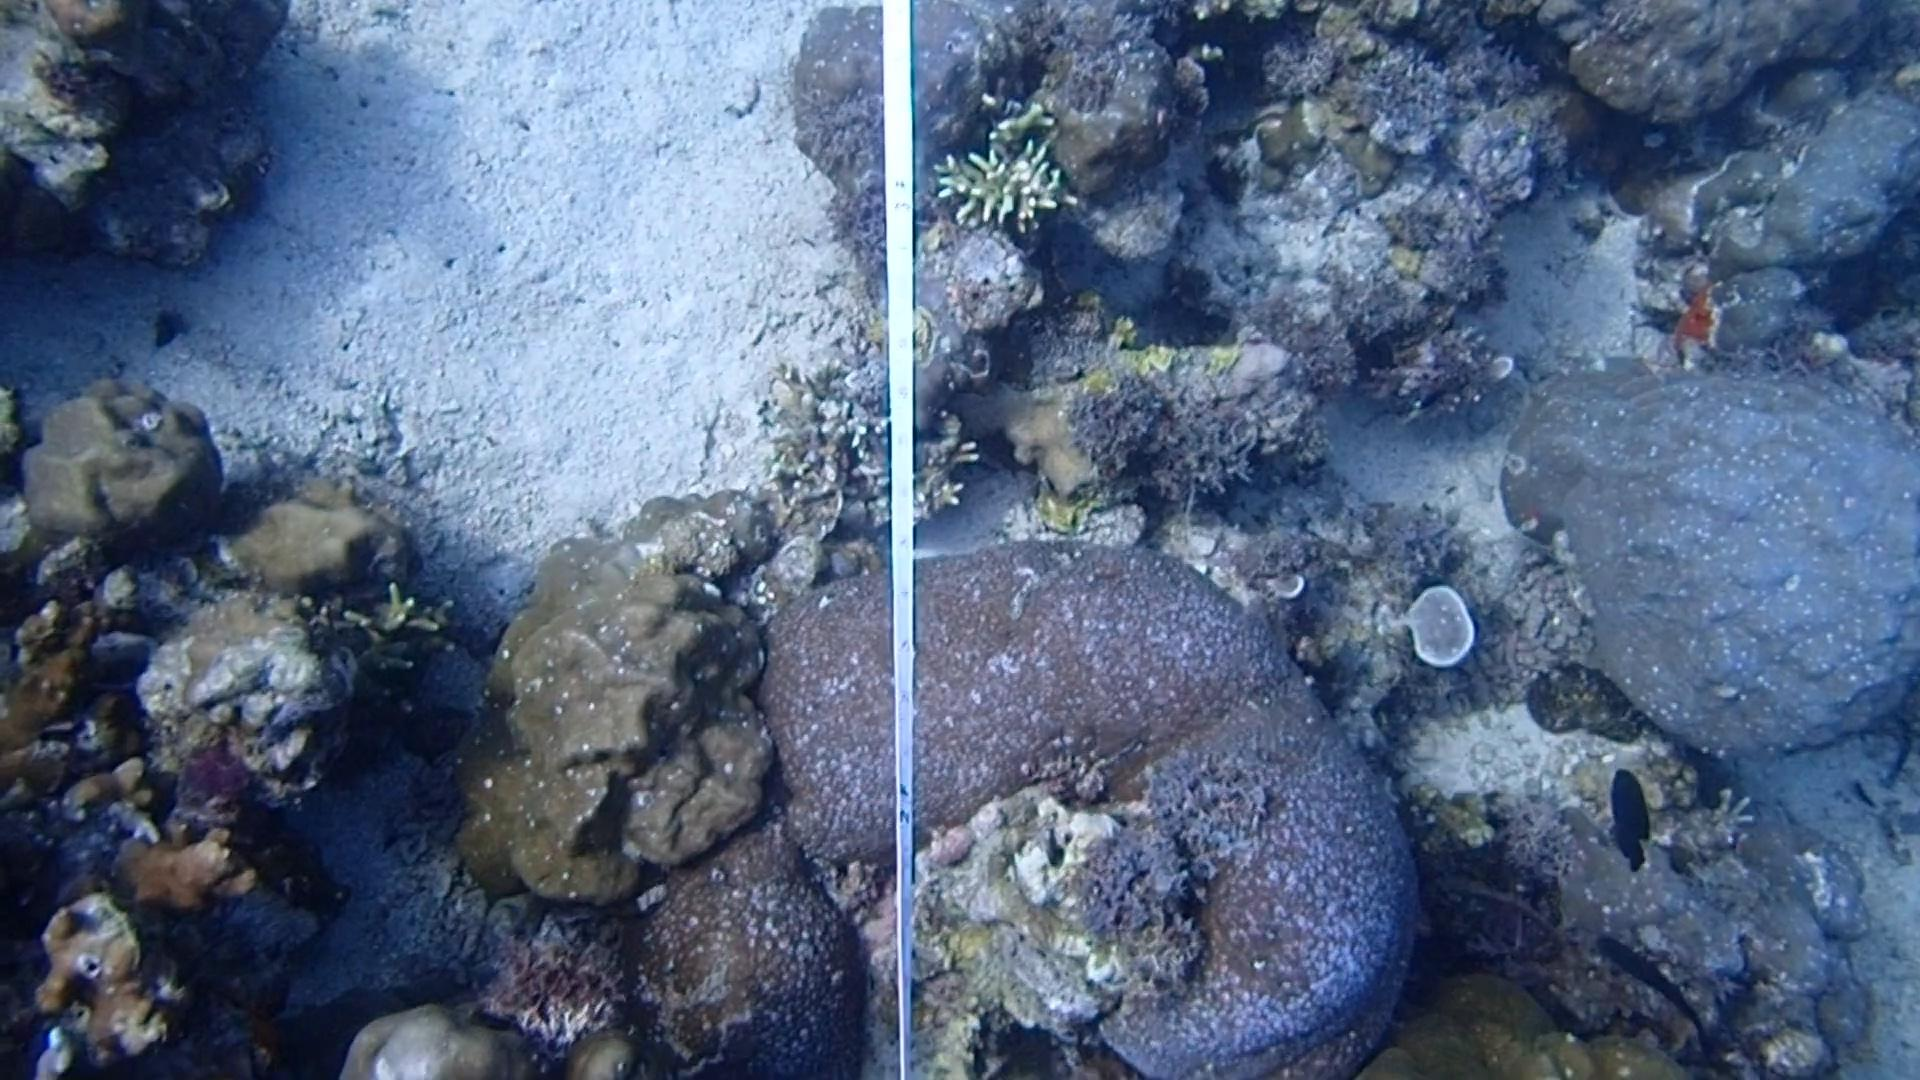Dark Fish: (1590, 750, 1679, 877)
